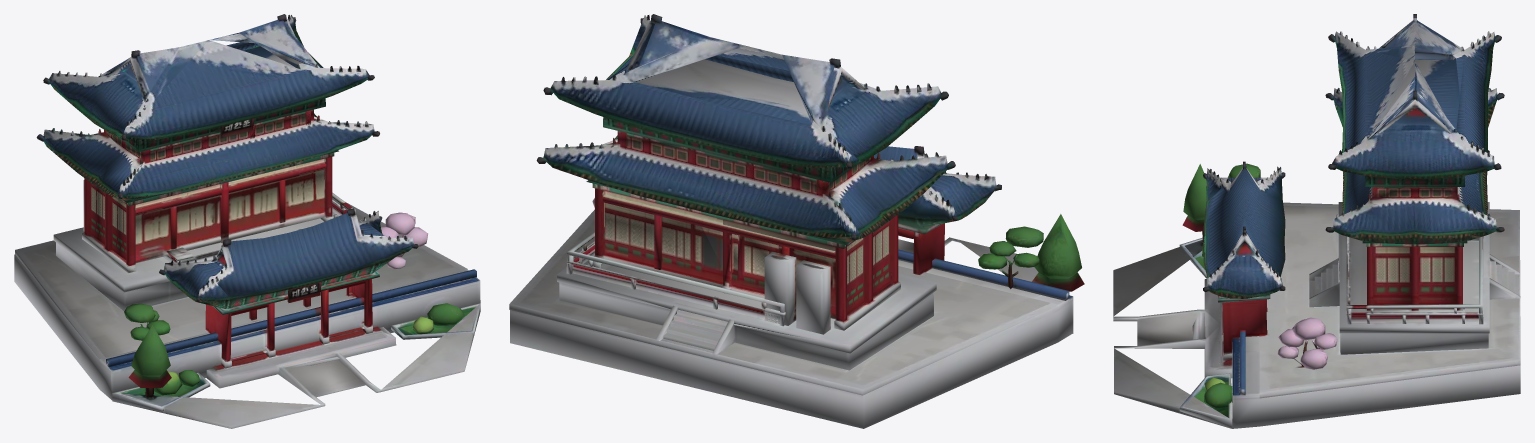
Rendered from 레벨4_덕수궁.glb.
3 views of the same model, side by side, from view 1: azimuth 30°, elevation 25°; view 2: azimuth 150°, elevation 25°; view 3: azimuth 270°, elevation 25° (orthographic). The views are drawn at different scales.
Visible parts, largest first — view 1: tripo_node_711e757e-aa8a-4adb-8676-8bd28fc2be6d; view 2: tripo_node_711e757e-aa8a-4adb-8676-8bd28fc2be6d; view 3: tripo_node_711e757e-aa8a-4adb-8676-8bd28fc2be6d.
Part boxes in pixels (box(x1,y1,x2,y2)): tripo_node_711e757e-aa8a-4adb-8676-8bd28fc2be6d: box(14, 14, 480, 428); tripo_node_711e757e-aa8a-4adb-8676-8bd28fc2be6d: box(509, 14, 1084, 428); tripo_node_711e757e-aa8a-4adb-8676-8bd28fc2be6d: box(1113, 14, 1520, 428).
Size of the model in its own units: 0.998 by 0.6816 by 0.8964.
1 material, 1 textured.
